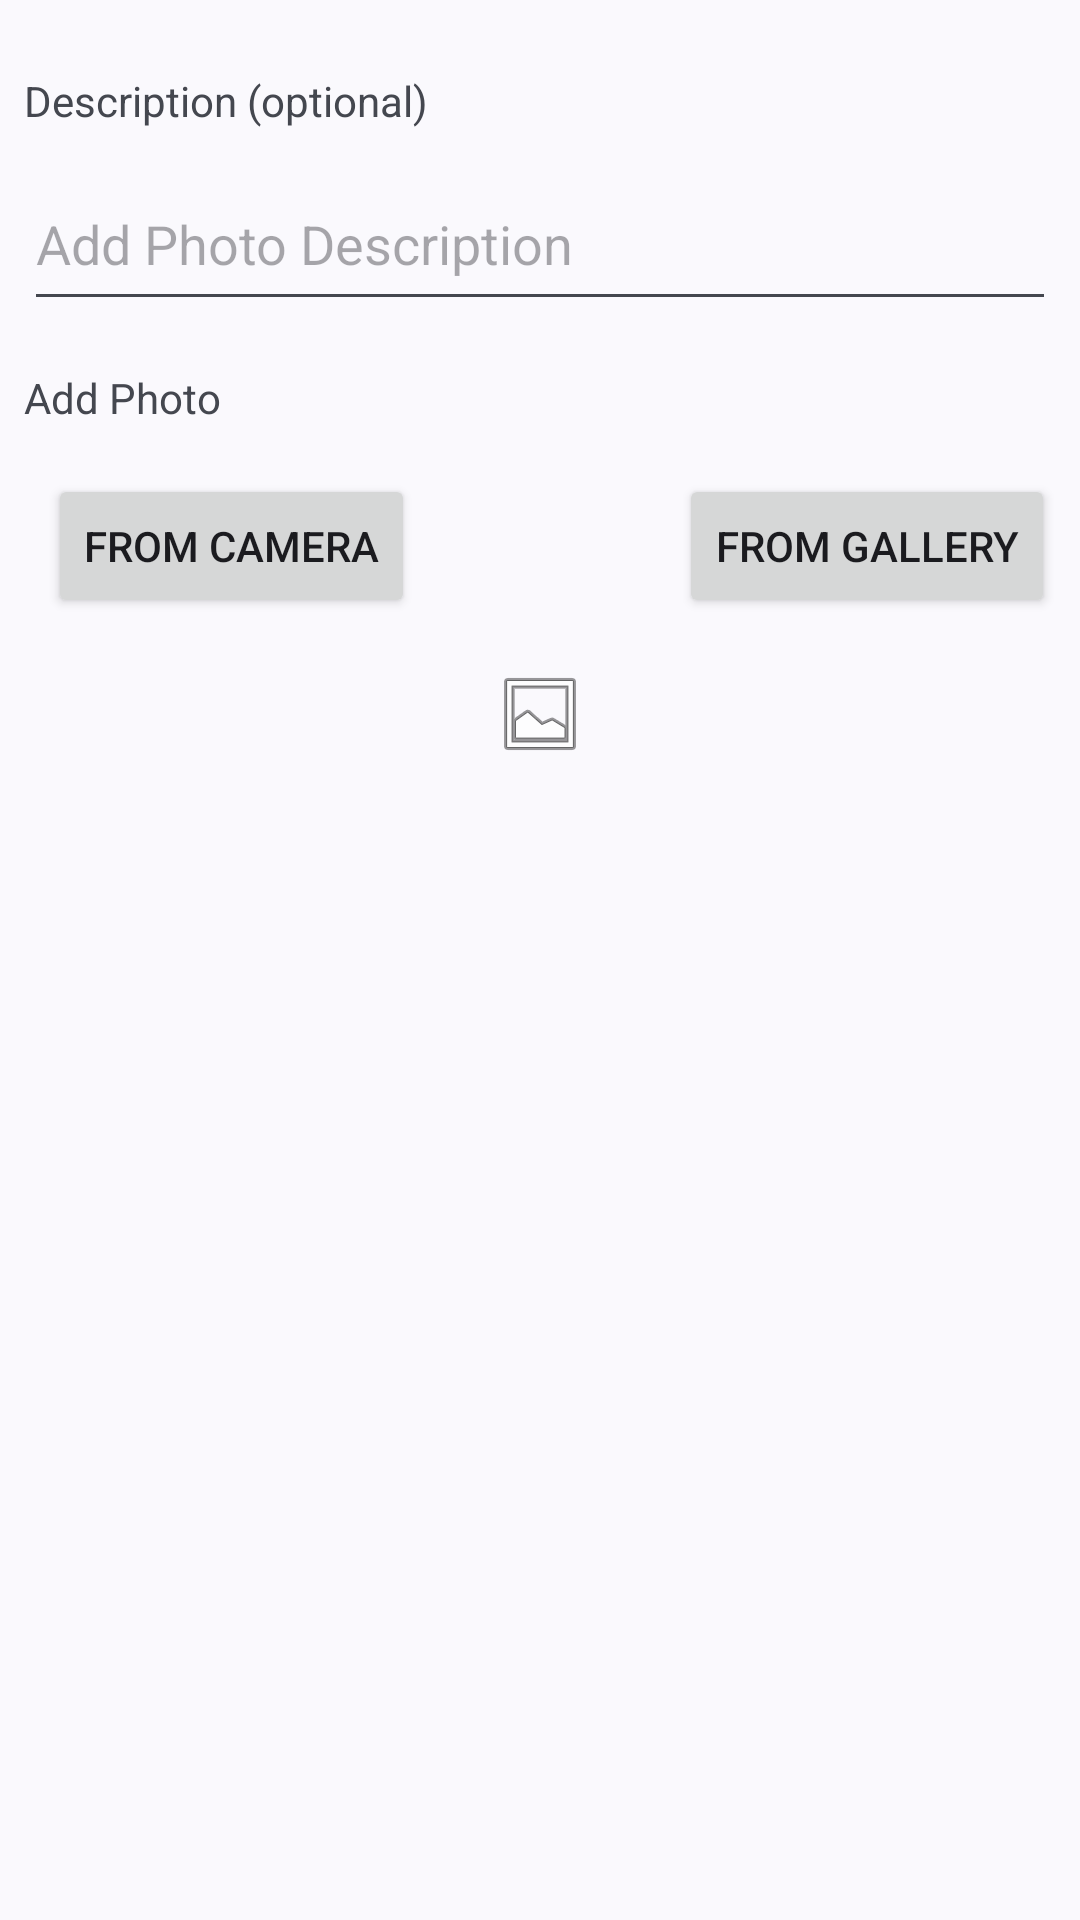

Point at icon controls on the screen. Image size 1080px×1920px, points as point (x, y).
Preview of Create Story Photo: point (540, 714)
